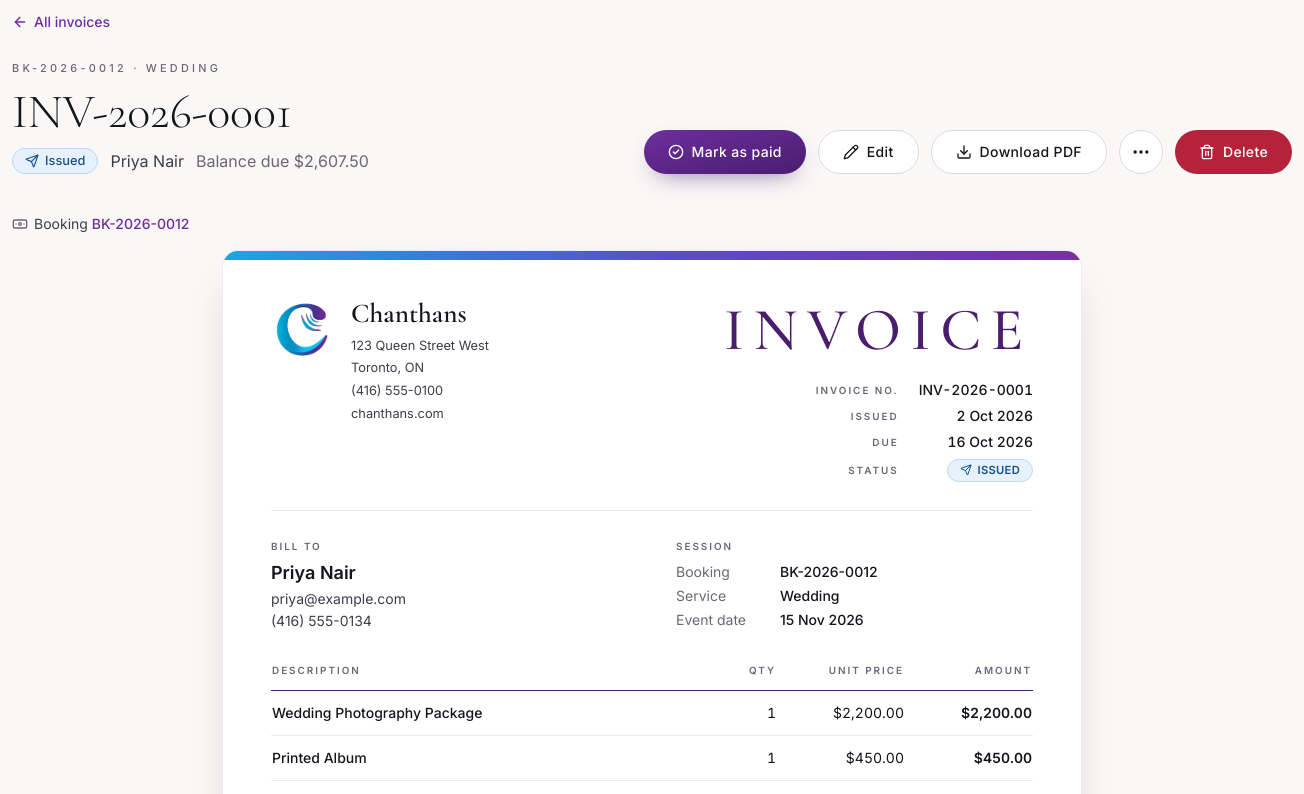
Scenario: InvoiceDetailPage › issued: can mark paid, record payment, cancel; cannot issue
Expected: the button "Mark as paid" is shown, left=644, top=130, right=806, bottom=174
Click the button named "More actions". click: (1141, 152)
box: left=1119, top=130, right=1163, bottom=174
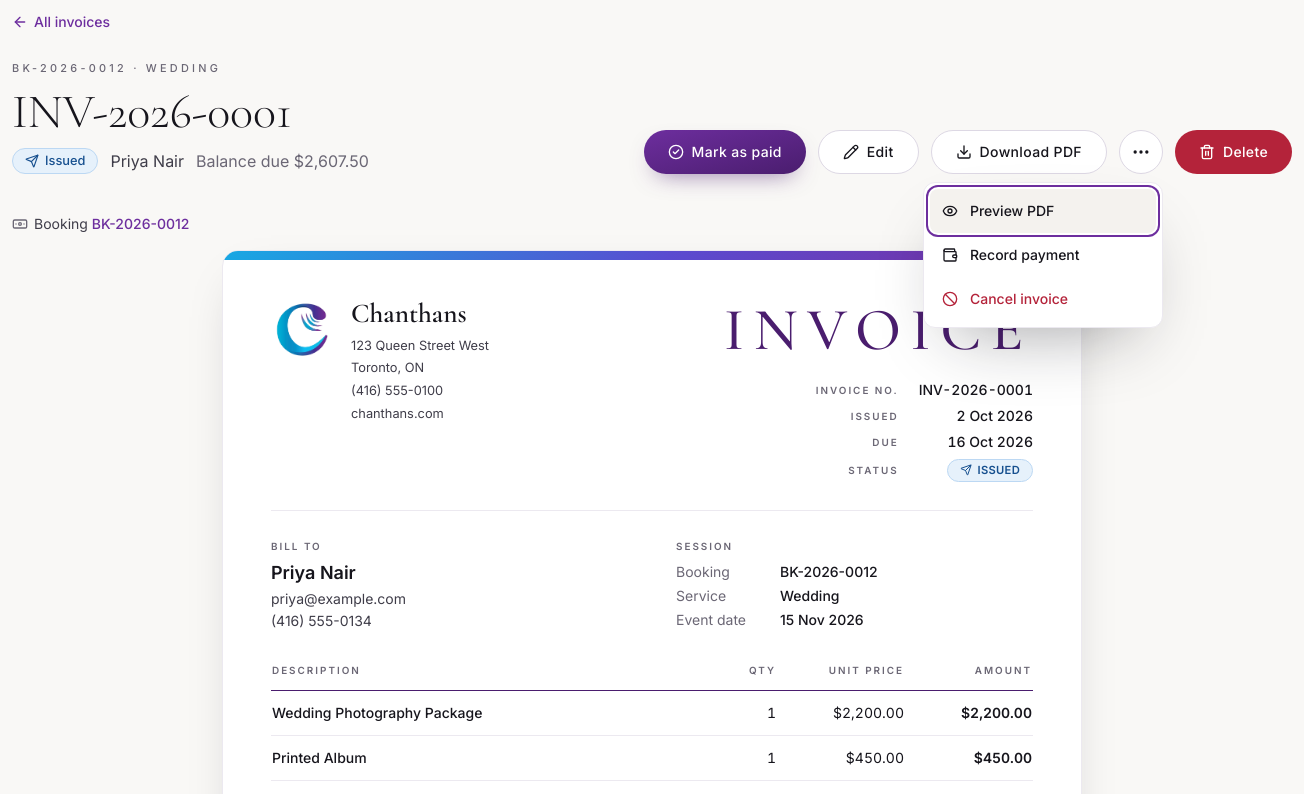
Expected: the button "Delete" is shown, left=1175, top=130, right=1292, bottom=174
Now the menu item "Record payment" is shown, box left=930, top=233, right=1156, bottom=277
Now the menu item "Cancel invoice" is shown, box left=930, top=277, right=1156, bottom=321
